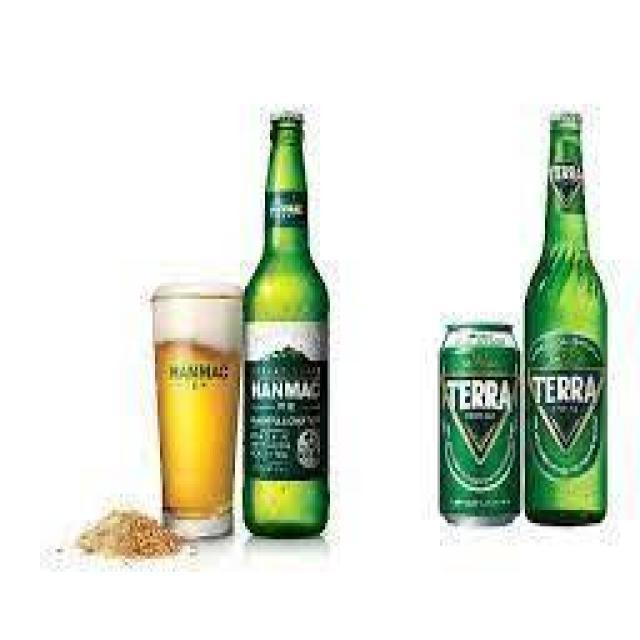beer-bottle: (238, 102, 330, 544), (520, 110, 612, 528)
beer-can: (434, 319, 524, 529)
